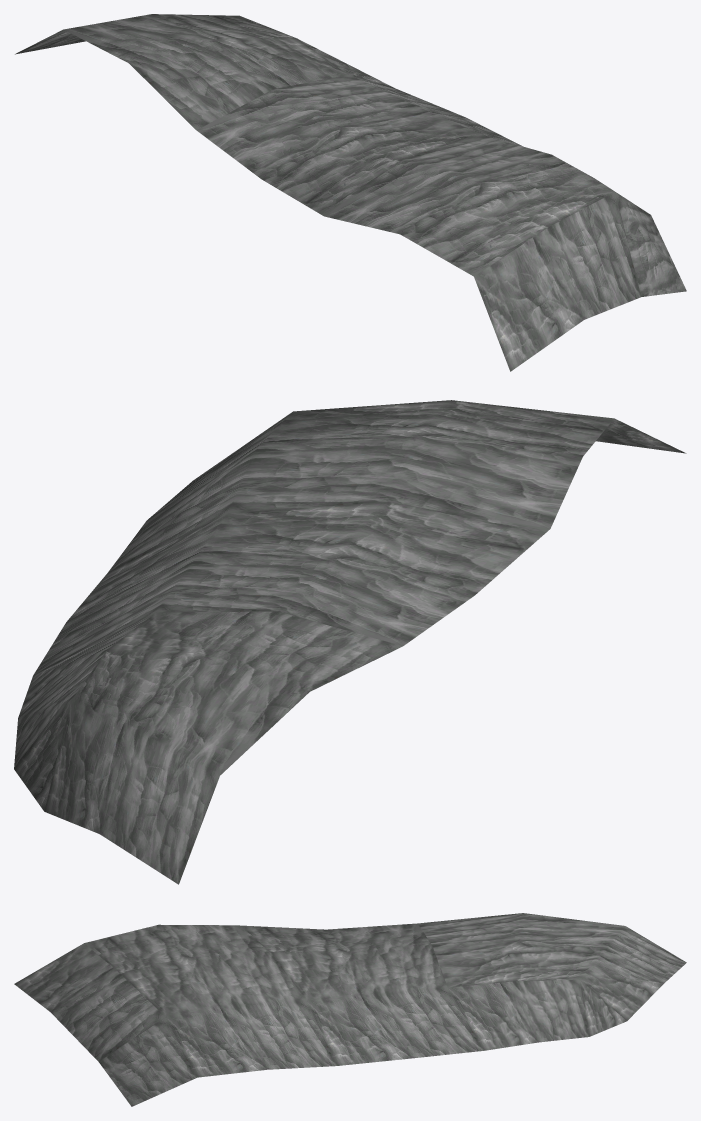
File: SWORDLIGHT20_PS-AREA04_16.fbx
3 views of the same model, one above another, from view 1: azimuth 30°, elevation 25°; view 2: azimuth 150°, elevation 25°; view 3: azimuth 270°, elevation 25° (orthographic). The views are drawn at different scales.
Parts seen in each view (by area): view 1: SWORDLIGHT20_PS-AREA04_16; view 2: SWORDLIGHT20_PS-AREA04_16; view 3: SWORDLIGHT20_PS-AREA04_16.
Boxes of the visible parts, x1,y1,x2,y2 form: SWORDLIGHT20_PS-AREA04_16: [15, 14, 686, 371]; SWORDLIGHT20_PS-AREA04_16: [14, 400, 686, 884]; SWORDLIGHT20_PS-AREA04_16: [14, 913, 686, 1106].
Bounding box in the file's own units: 94625 × 34055 × 233336.
Materials: 1 (1 with a texture image).
